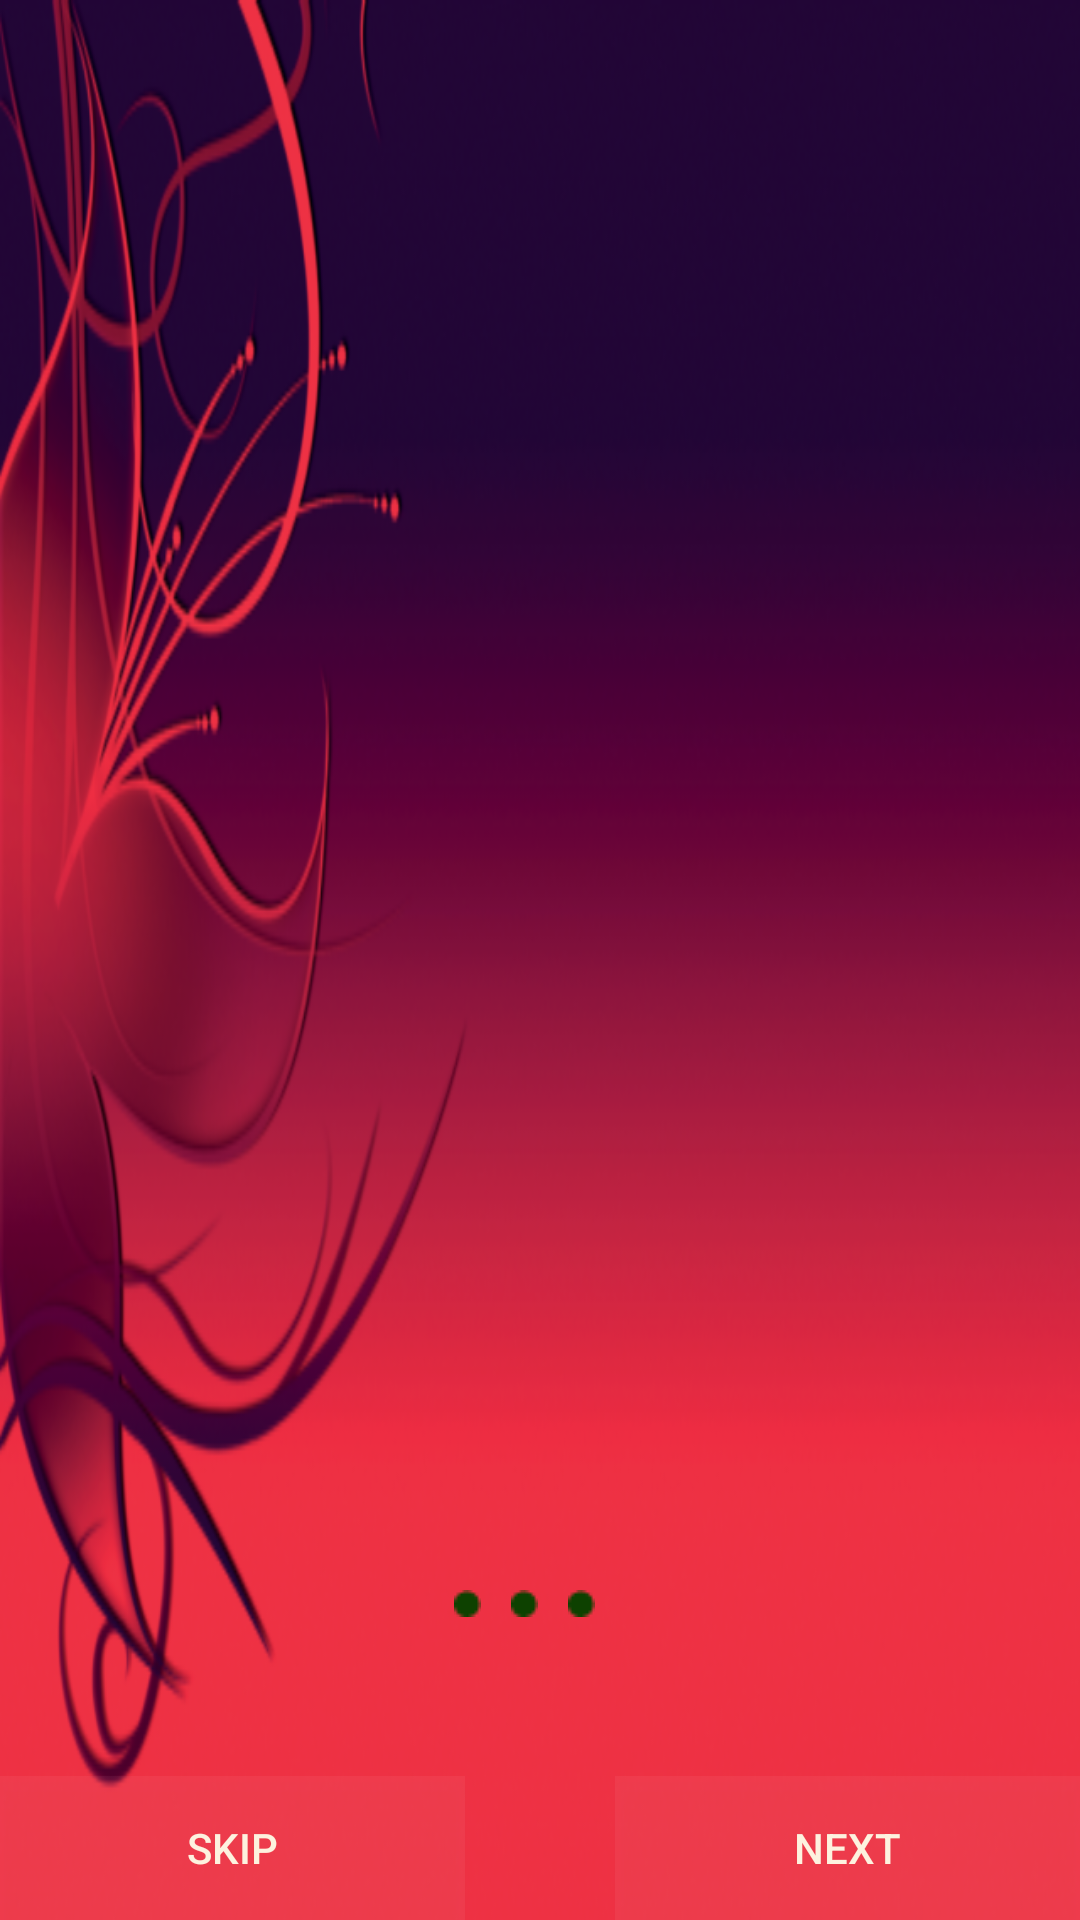

Screen size 1080*1920. Icon name, then its center in pixels as point (x, y):
dot: point (467, 1603), point (524, 1603), point (581, 1603)
